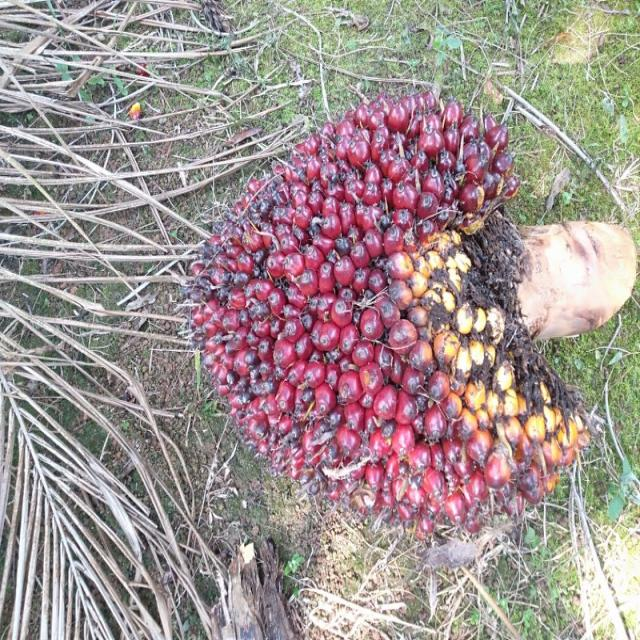fraksi 1: (135, 82, 586, 566)
